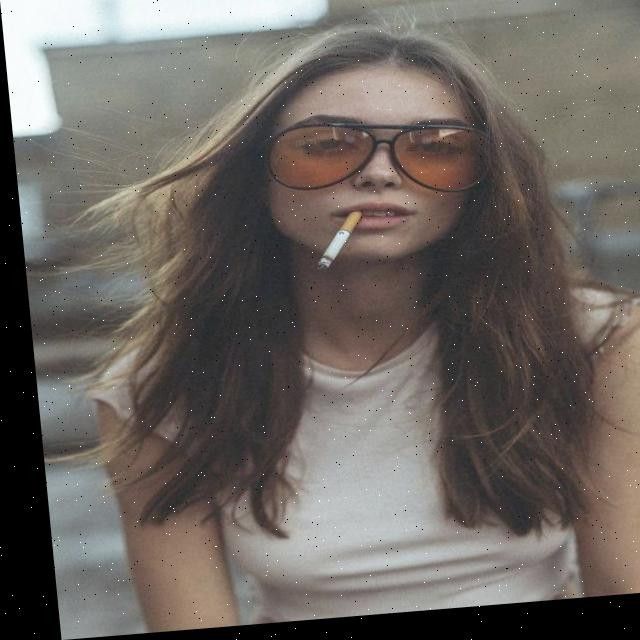cigarette: (307, 219, 361, 277)
